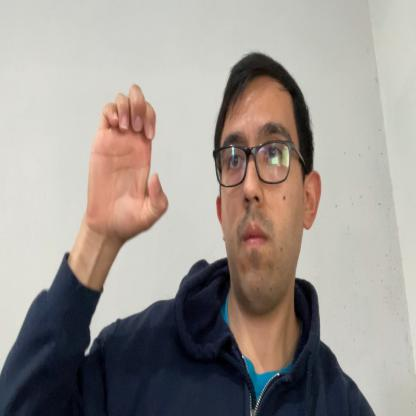E: (86, 84, 170, 242)
